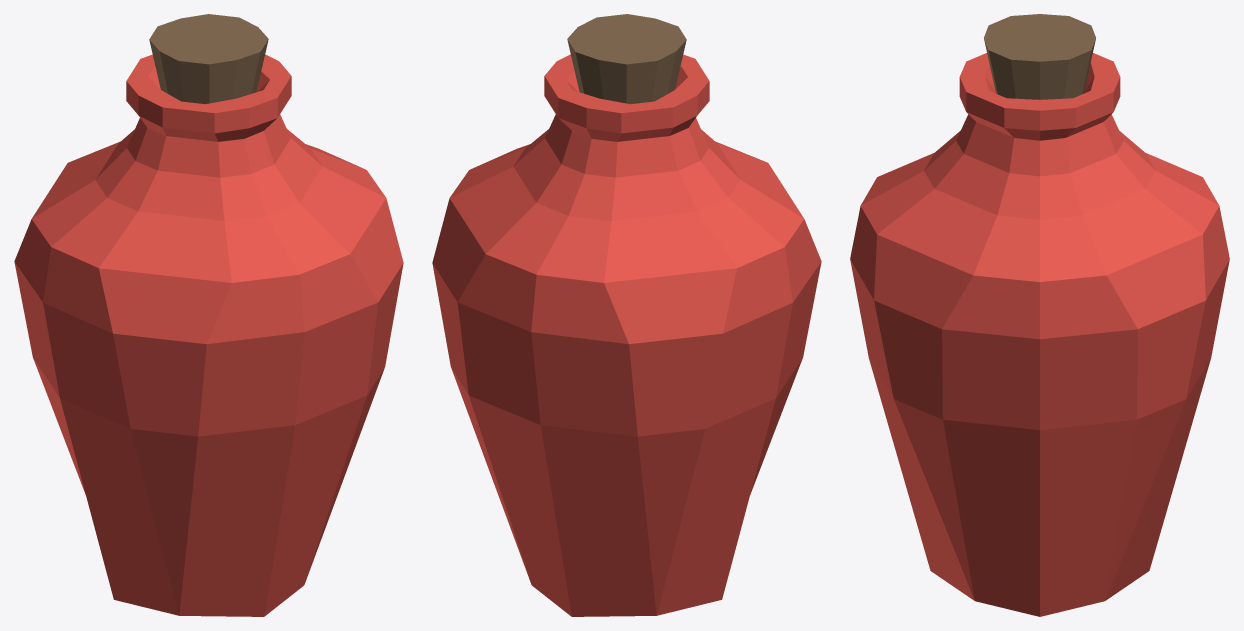
File: potion.fbx
3 renders of one model, left to right at view 1: azimuth 30°, elevation 25°; view 2: azimuth 150°, elevation 25°; view 3: azimuth 270°, elevation 25°, orthographic.
Parts seen in each view (by area): view 1: Vial_Red; view 2: Vial_Red; view 3: Vial_Red.
Part boxes in pixels (box(x1,y1,x2,y2)): Vial_Red: box(14, 14, 403, 616); Vial_Red: box(432, 14, 821, 616); Vial_Red: box(850, 14, 1229, 616).
Size of the model in its own units: 301 by 465 by 300.
